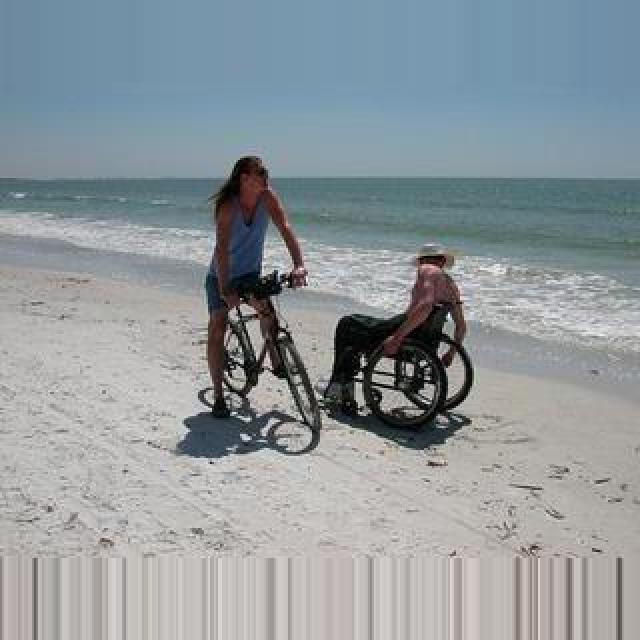MC-Bike: (202, 154, 310, 438), (320, 242, 466, 416)
Person: (210, 272, 320, 454), (322, 314, 474, 430)
